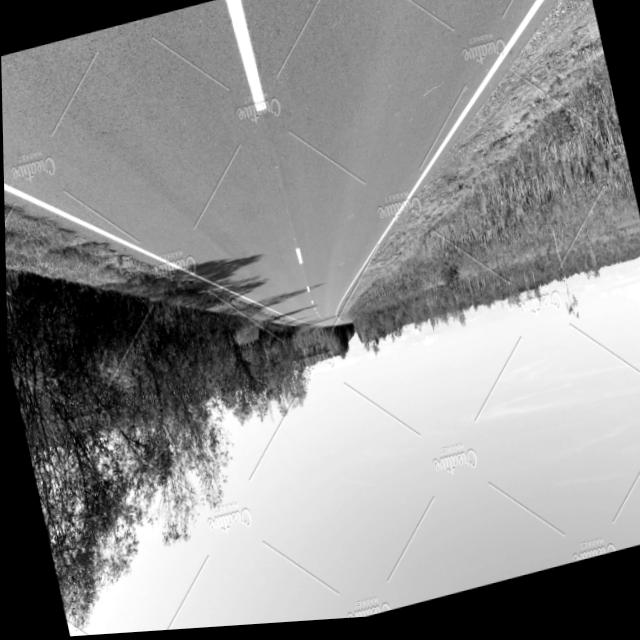cleat: (1, 0, 562, 534)
